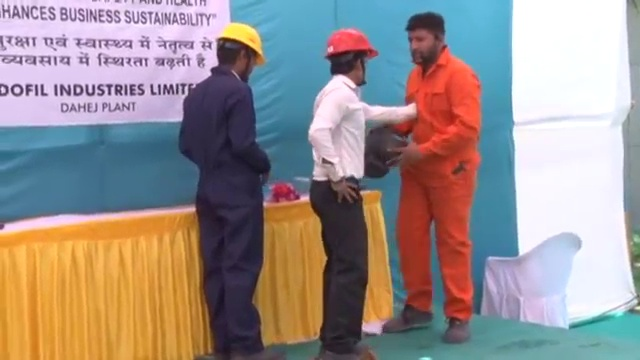helmet: (213, 19, 265, 65), (324, 26, 379, 59)
helmet_off: (403, 12, 447, 66)
helmet_on: (212, 19, 265, 83), (323, 26, 379, 86)
person: (307, 27, 420, 360), (181, 21, 275, 360), (384, 13, 481, 340)
